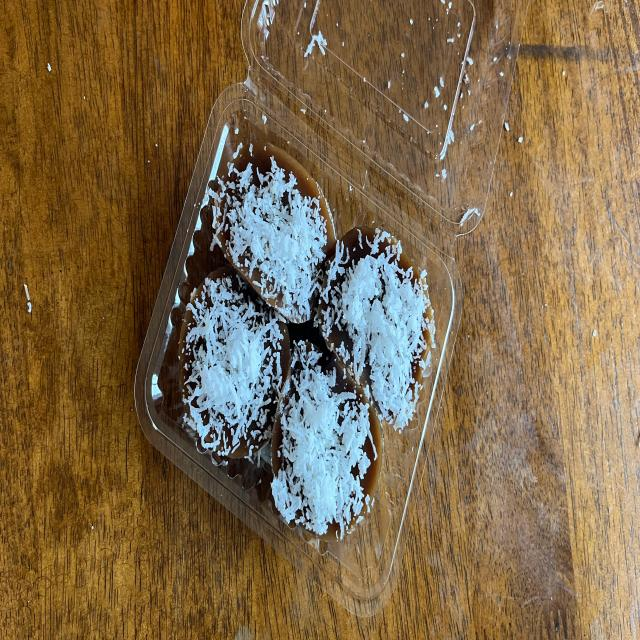Kuih lompang: (316, 227, 435, 431), (271, 340, 382, 540), (216, 142, 336, 322), (179, 269, 290, 460)
